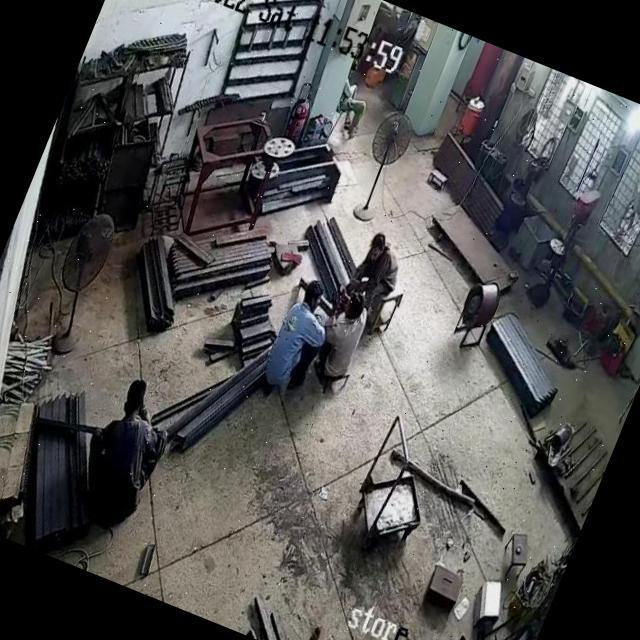person: (68, 366, 188, 530), (254, 276, 340, 408), (304, 288, 378, 393), (338, 226, 412, 318), (318, 65, 384, 146)
